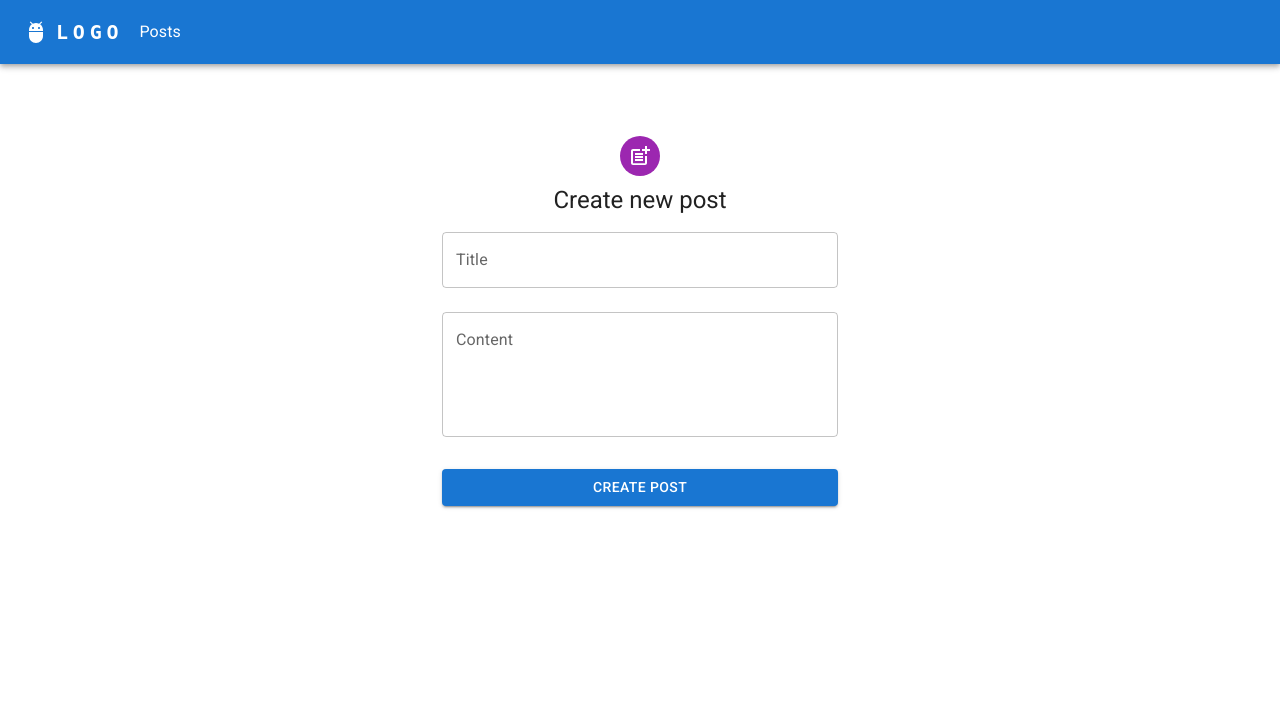
<NewPost /> › renders error if values are missing
Click the button "Create Post" at (640,487), box x1=442 y1=469 x2=838 y2=506
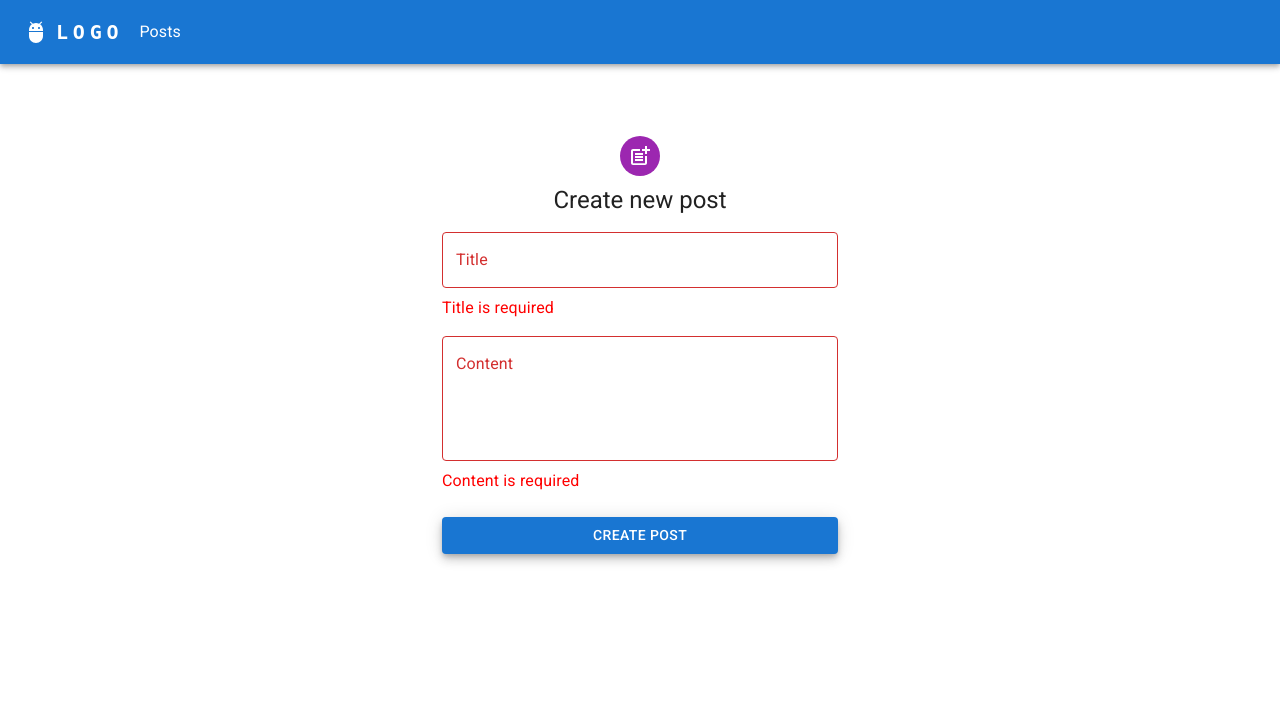
Check: the text "Title is required" is shown, box x1=442 y1=298 x2=554 y2=317
Check: the text "Content is required" is shown, box x1=442 y1=471 x2=580 y2=490
